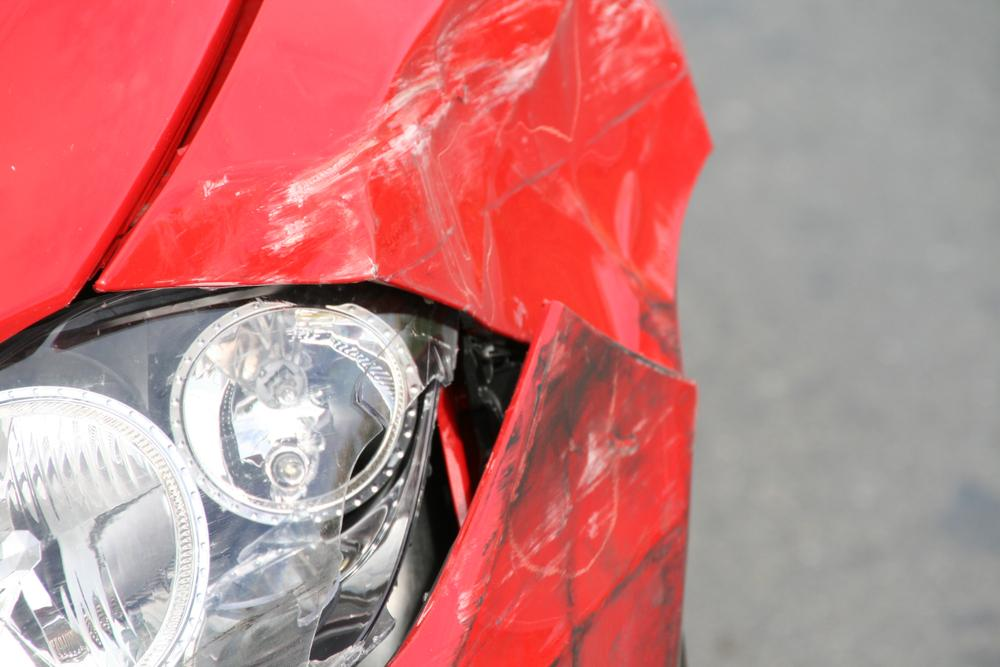lamp broken: (0, 283, 527, 667)
scratch: (213, 0, 669, 304), (419, 309, 698, 667)
